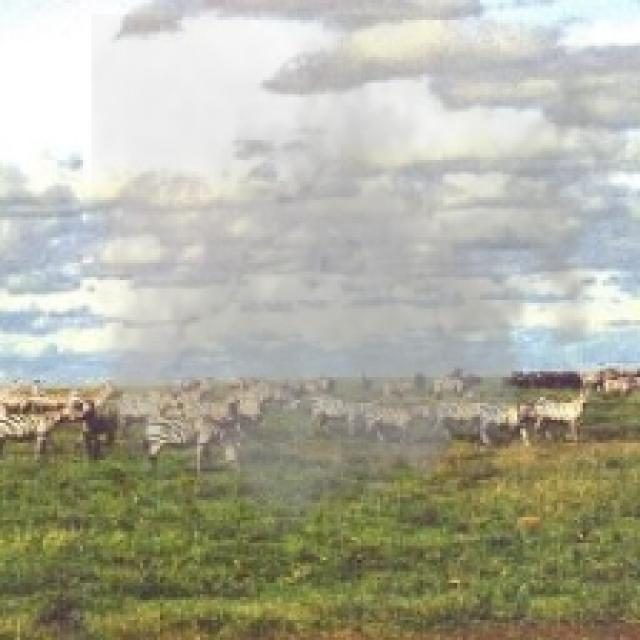smoke: (91, 14, 628, 557)
